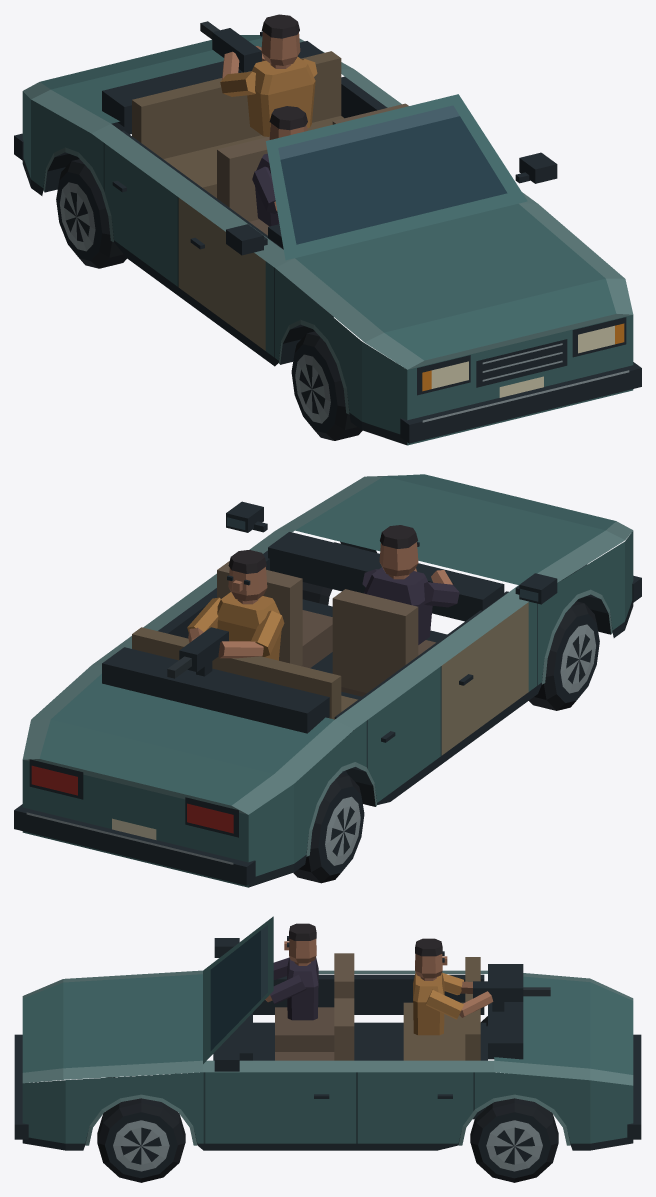
File: suspect.glb
3 renders of one model, top to bottom at view 1: azimuth 30°, elevation 25°; view 2: azimuth 150°, elevation 25°; view 3: azimuth 270°, elevation 25°, orthographic. The views are drawn at different scales.
Parts seen in each view (by area): view 1: SuspectBody, Gunner; view 2: SuspectBody, Gunner; view 3: SuspectBody, Gunner.
Part boxes in pixels (x1,y1,x2,y2): SuspectBody: (14, 35, 641, 445); Gunner: (200, 14, 317, 136); SuspectBody: (14, 474, 641, 887); Gunner: (167, 550, 284, 678); SuspectBody: (14, 916, 641, 1182); Gunner: (413, 938, 550, 1035).
Size of the model in its own units: 2.29 by 1.73 by 4.98.
